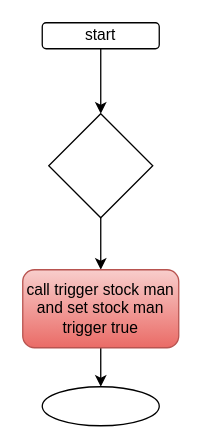
Some shapes in this 202 by 448 pixel diagram are drawn without their labels. The shapes that lost their labels are listed below. From the top down, each one's centre as x and y in pixels, then its label:
point 100,165: IF current stock <= stock man trigger
point 100,405: end
